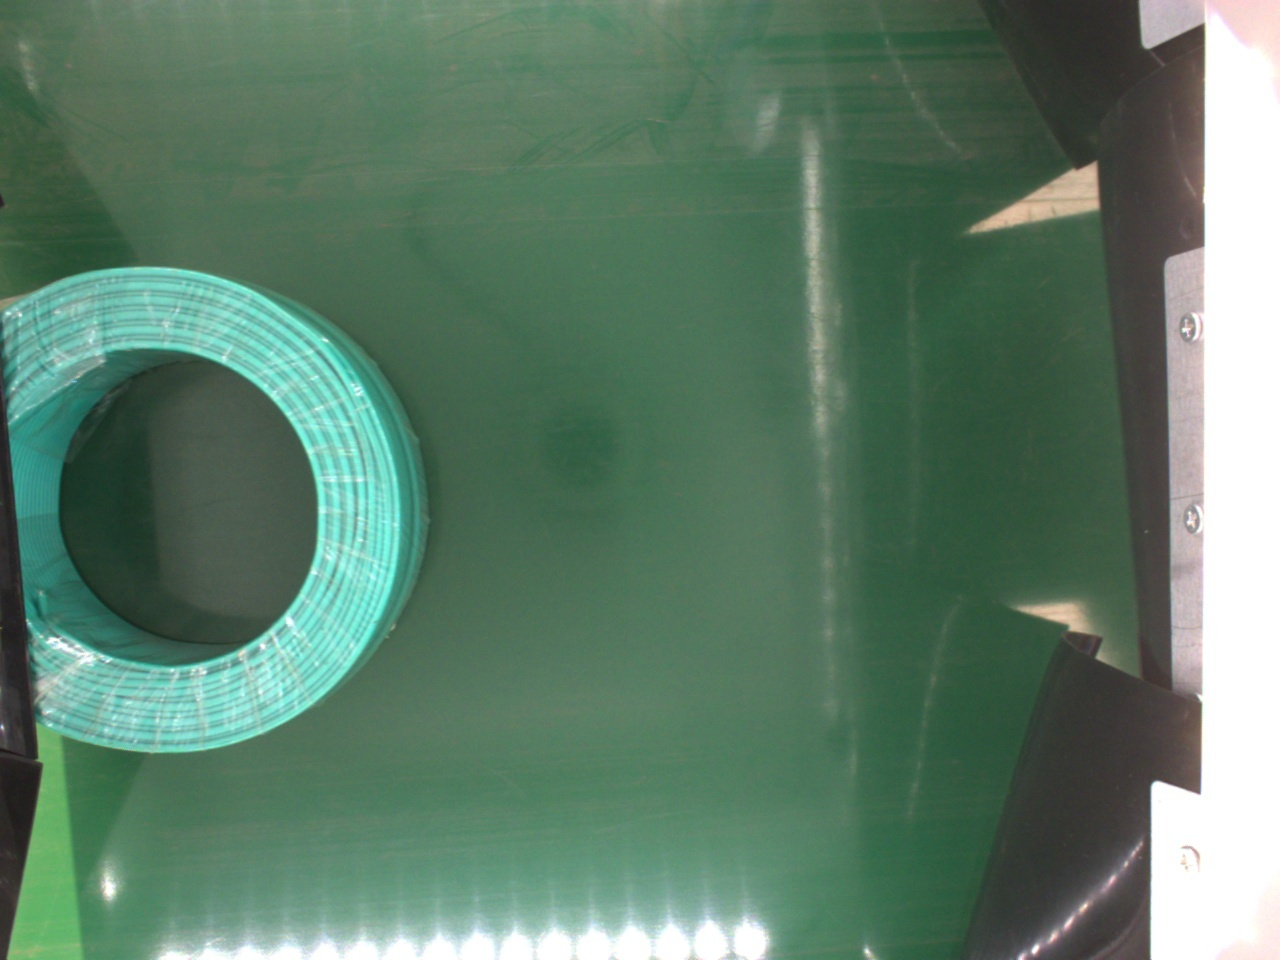green: (16, 269, 425, 761)
